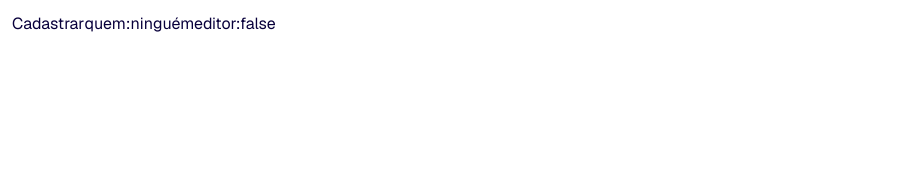
Test case: AuthProvider › reports the category and HTTP status of a failed confirmation after registration
Click the button "Cadastrar": (48, 24) [12,12,84,36]
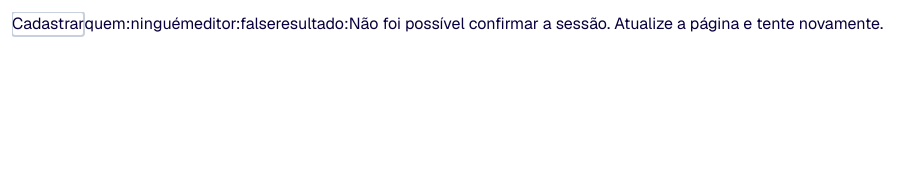
Check: the text "resultado:Não foi possível confirmar a sessão. Atualize a página e tente novamente." is shown, box [276,13,883,34]
